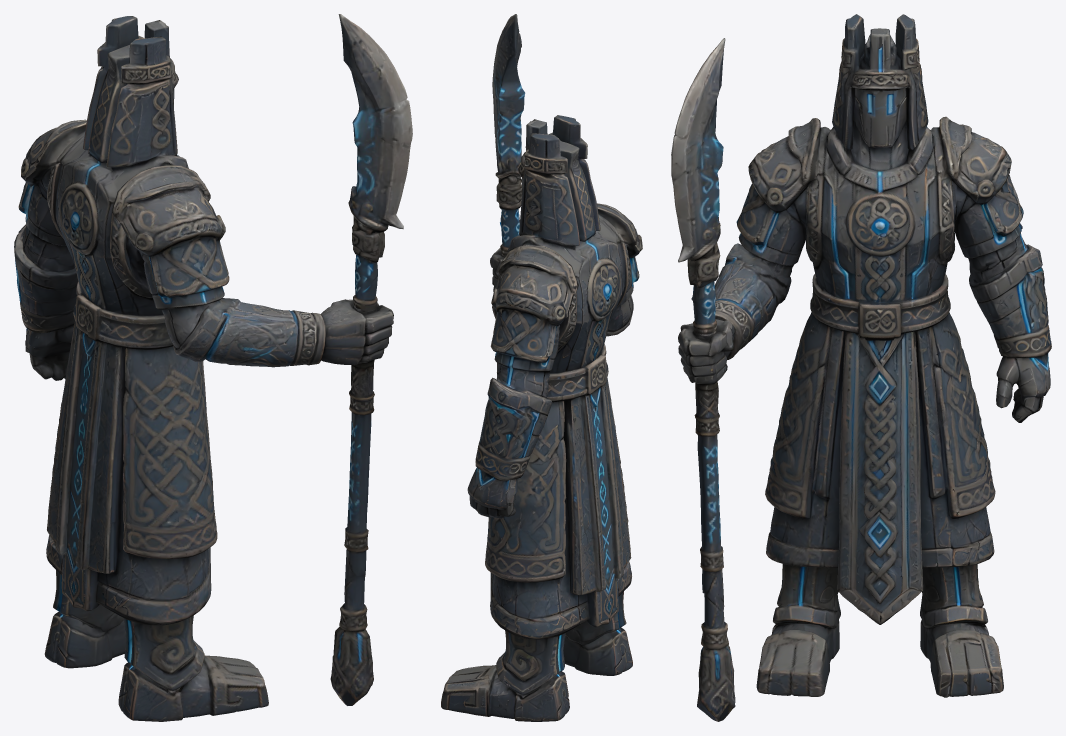
The model's file is StoneSentinel-tripo.glb.
3 views of the same model, side by side, from view 1: azimuth 30°, elevation 25°; view 2: azimuth 150°, elevation 25°; view 3: azimuth 270°, elevation 25° (orthographic). The views are drawn at different scales.
Parts seen in each view (by area): view 1: tripo_node_258796c6-7a4e-40c5-a32d-e6b230d55d70; view 2: tripo_node_258796c6-7a4e-40c5-a32d-e6b230d55d70; view 3: tripo_node_258796c6-7a4e-40c5-a32d-e6b230d55d70.
Part boxes in pixels (x1=…): tripo_node_258796c6-7a4e-40c5-a32d-e6b230d55d70: x1=14, y1=14, x2=412, y2=721; tripo_node_258796c6-7a4e-40c5-a32d-e6b230d55d70: x1=441, y1=14, x2=642, y2=721; tripo_node_258796c6-7a4e-40c5-a32d-e6b230d55d70: x1=671, y1=14, x2=1051, y2=721.
Size of the model in its own units: 0.3632 by 1 by 0.5065.
1 material, 1 textured.
